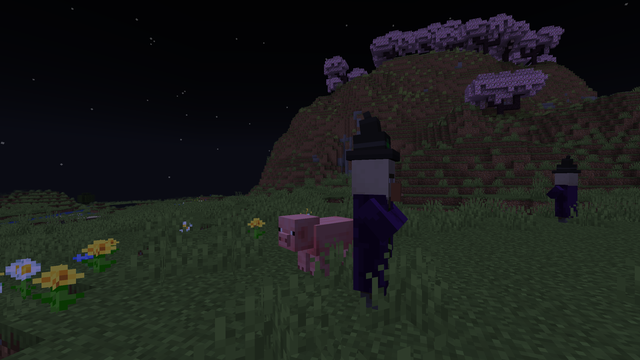cochons: (294, 214, 338, 277)
sorcieres: (346, 152, 397, 314), (552, 171, 580, 223)
